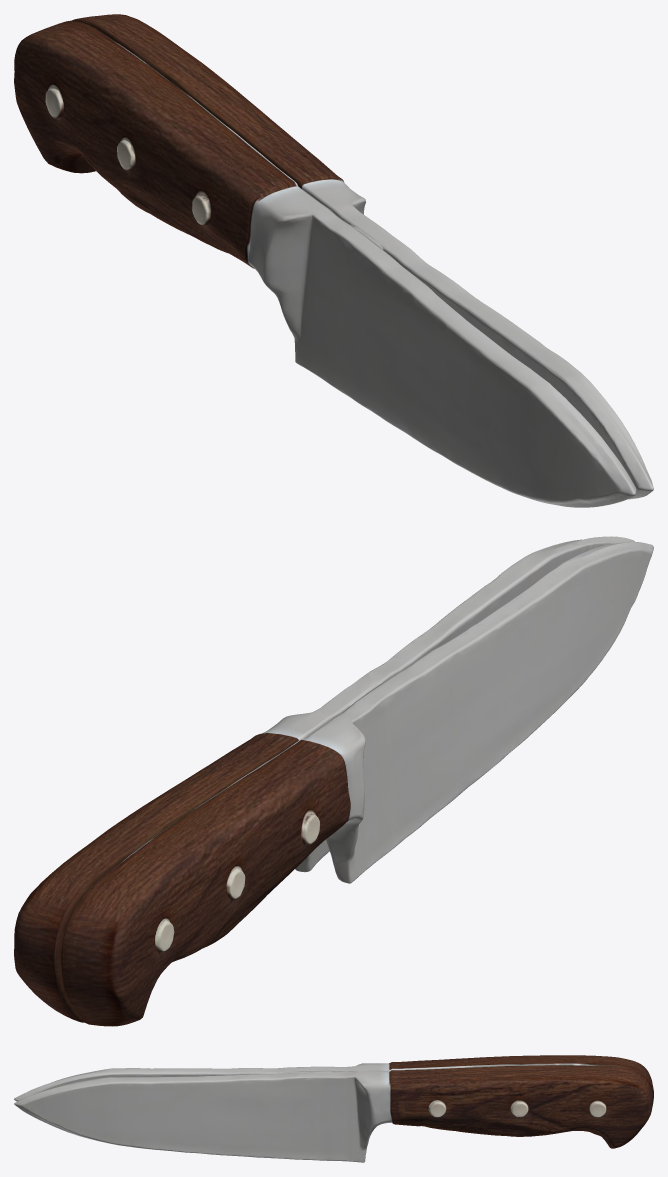
File: knife.glb
3 views of the same model, one above another, from view 1: azimuth 30°, elevation 25°; view 2: azimuth 150°, elevation 25°; view 3: azimuth 270°, elevation 25° (orthographic). The views are drawn at different scales.
Visible parts, largest first — view 1: tripo_node_14bf4a51-a3ea-4a28-95f1-64d0161311ae; view 2: tripo_node_14bf4a51-a3ea-4a28-95f1-64d0161311ae; view 3: tripo_node_14bf4a51-a3ea-4a28-95f1-64d0161311ae.
Part boxes in pixels (x1,y1,x2,y2): tripo_node_14bf4a51-a3ea-4a28-95f1-64d0161311ae: (14, 14, 653, 507); tripo_node_14bf4a51-a3ea-4a28-95f1-64d0161311ae: (14, 536, 653, 1026); tripo_node_14bf4a51-a3ea-4a28-95f1-64d0161311ae: (14, 1055, 653, 1162).
Bounding box in the file's own units: 0.1141 × 0.1575 × 1.
Materials: 1 (1 with a texture image).
